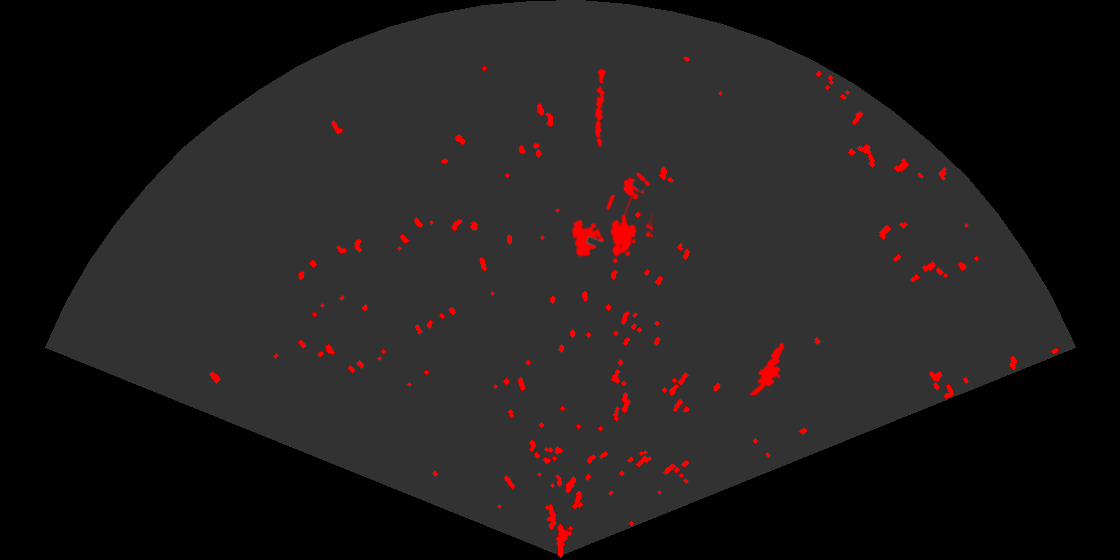ball: (621, 171, 652, 201)
cage: (570, 195, 653, 265)
chain: (593, 66, 607, 147)
frogman: (747, 341, 786, 395)
